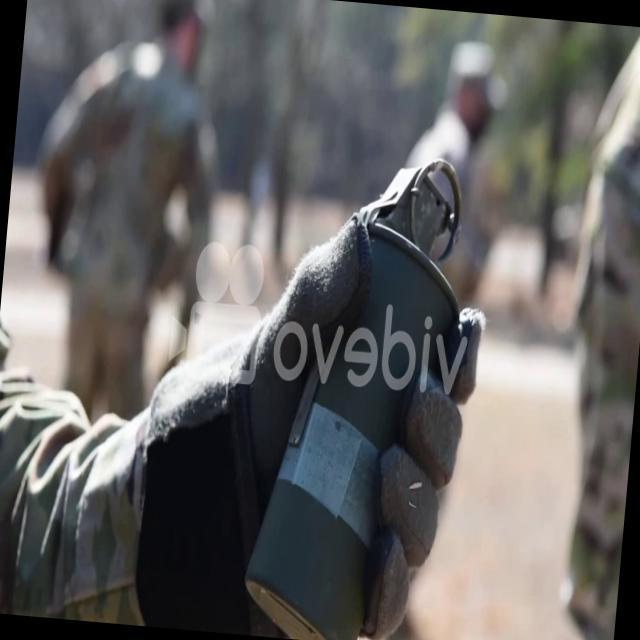grenade: (238, 135, 479, 640)
